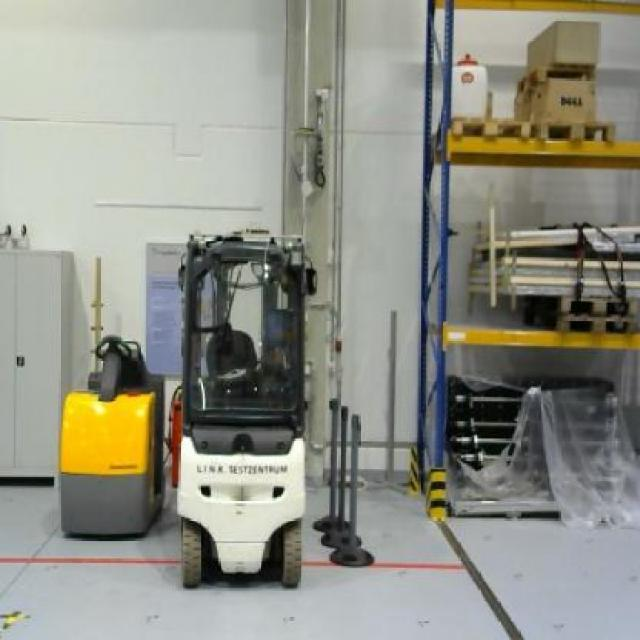box: (522, 16, 600, 70), (512, 80, 596, 128)
